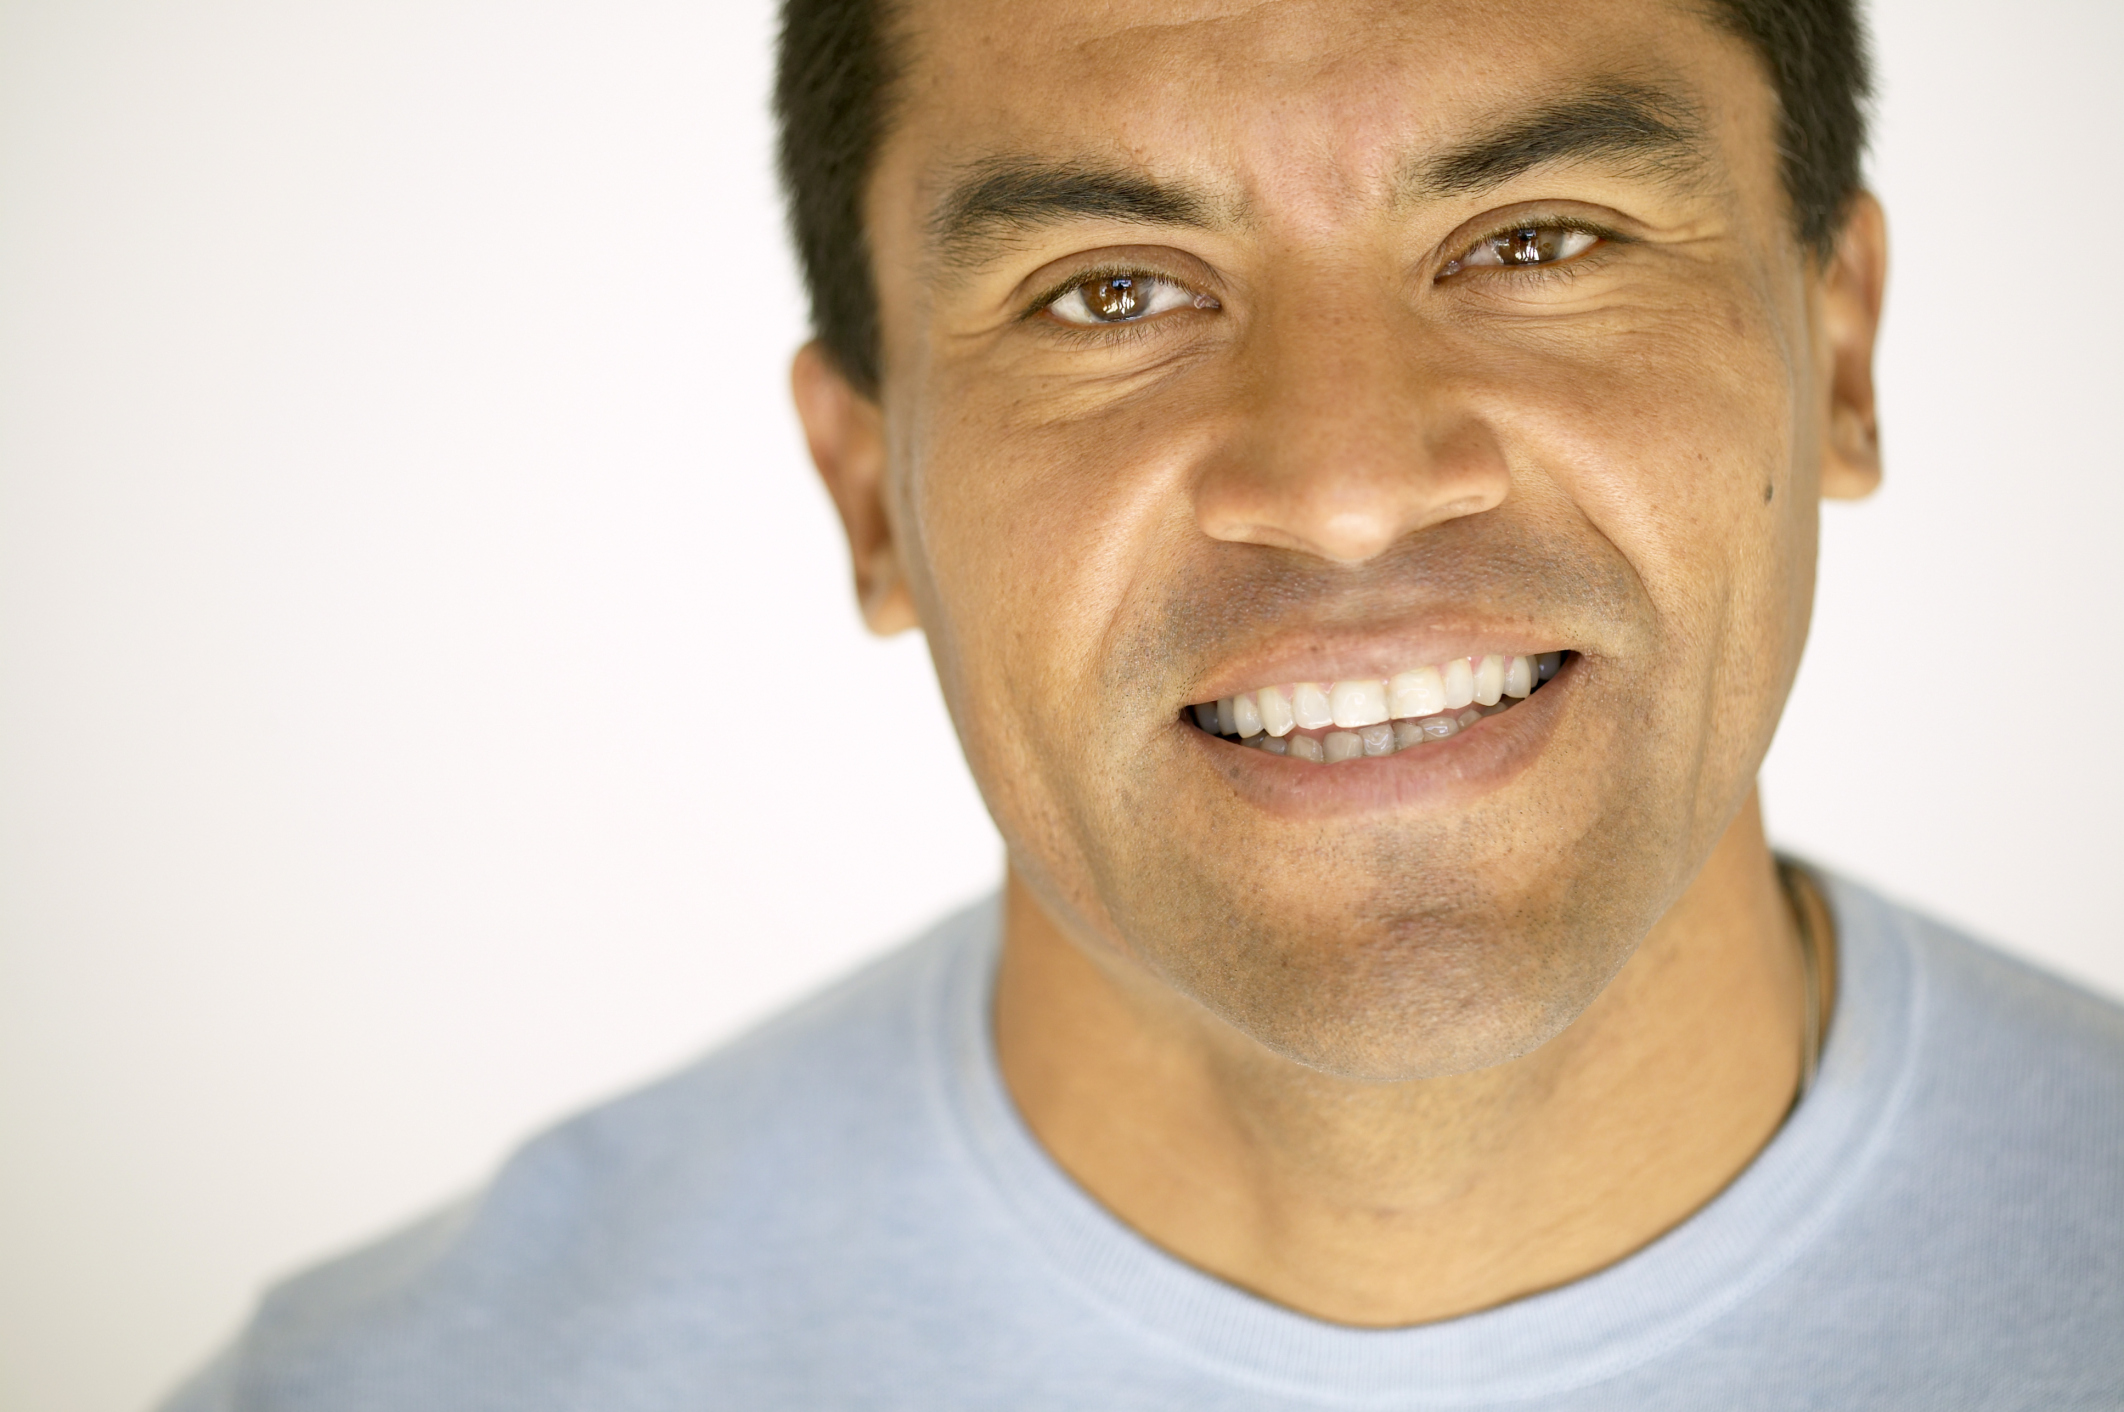no_mask: (750, 8, 1896, 1116)
